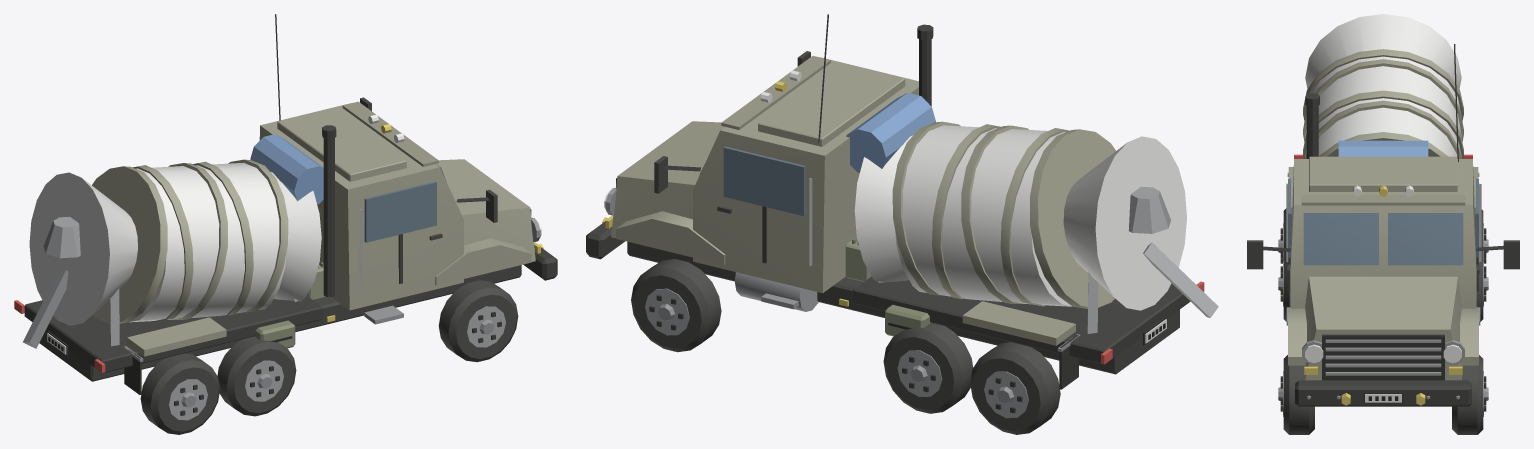
Rendered from cementtruck.glb.
3 renders of one model, left to right at view 1: azimuth 30°, elevation 25°; view 2: azimuth 150°, elevation 25°; view 3: azimuth 270°, elevation 25°, orthographic. The views are drawn at different scales.
Parts seen in each view (by area): view 1: hull; view 2: hull; view 3: hull.
Boxes of the visible parts, x1,y1,x2,y2 form: hull: (14,14,557,434); hull: (586,14,1218,434); hull: (1247,14,1519,434).
Bounding box in the file's own units: 8 × 4.79 × 3.66.
